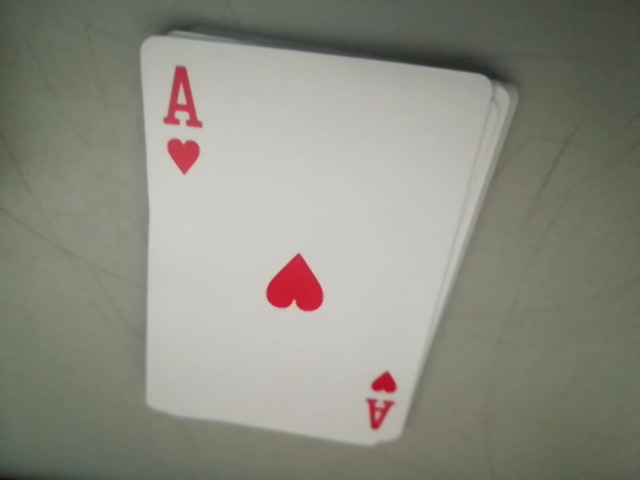hx a: (357, 369, 409, 438)
